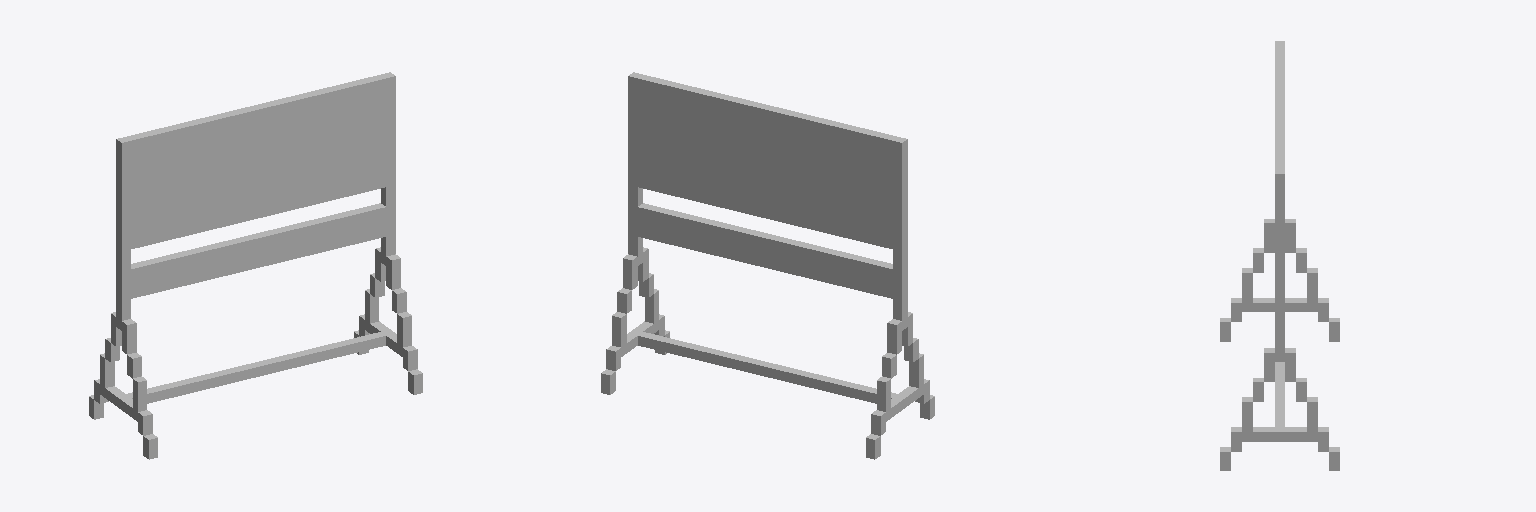
The model's file is placa_obra.obj.
3 renders of one model, left to right at view 1: azimuth 30°, elevation 25°; view 2: azimuth 150°, elevation 25°; view 3: azimuth 270°, elevation 25°, orthographic.
Visible parts, largest first — view 1: placa_obra; view 2: placa_obra; view 3: placa_obra.
Part boxes in pixels (x1,y1,x2,y2): placa_obra: (89, 72, 422, 459); placa_obra: (601, 72, 934, 459); placa_obra: (1220, 41, 1339, 470).
Size of the model in its own units: 29 by 30 by 11.